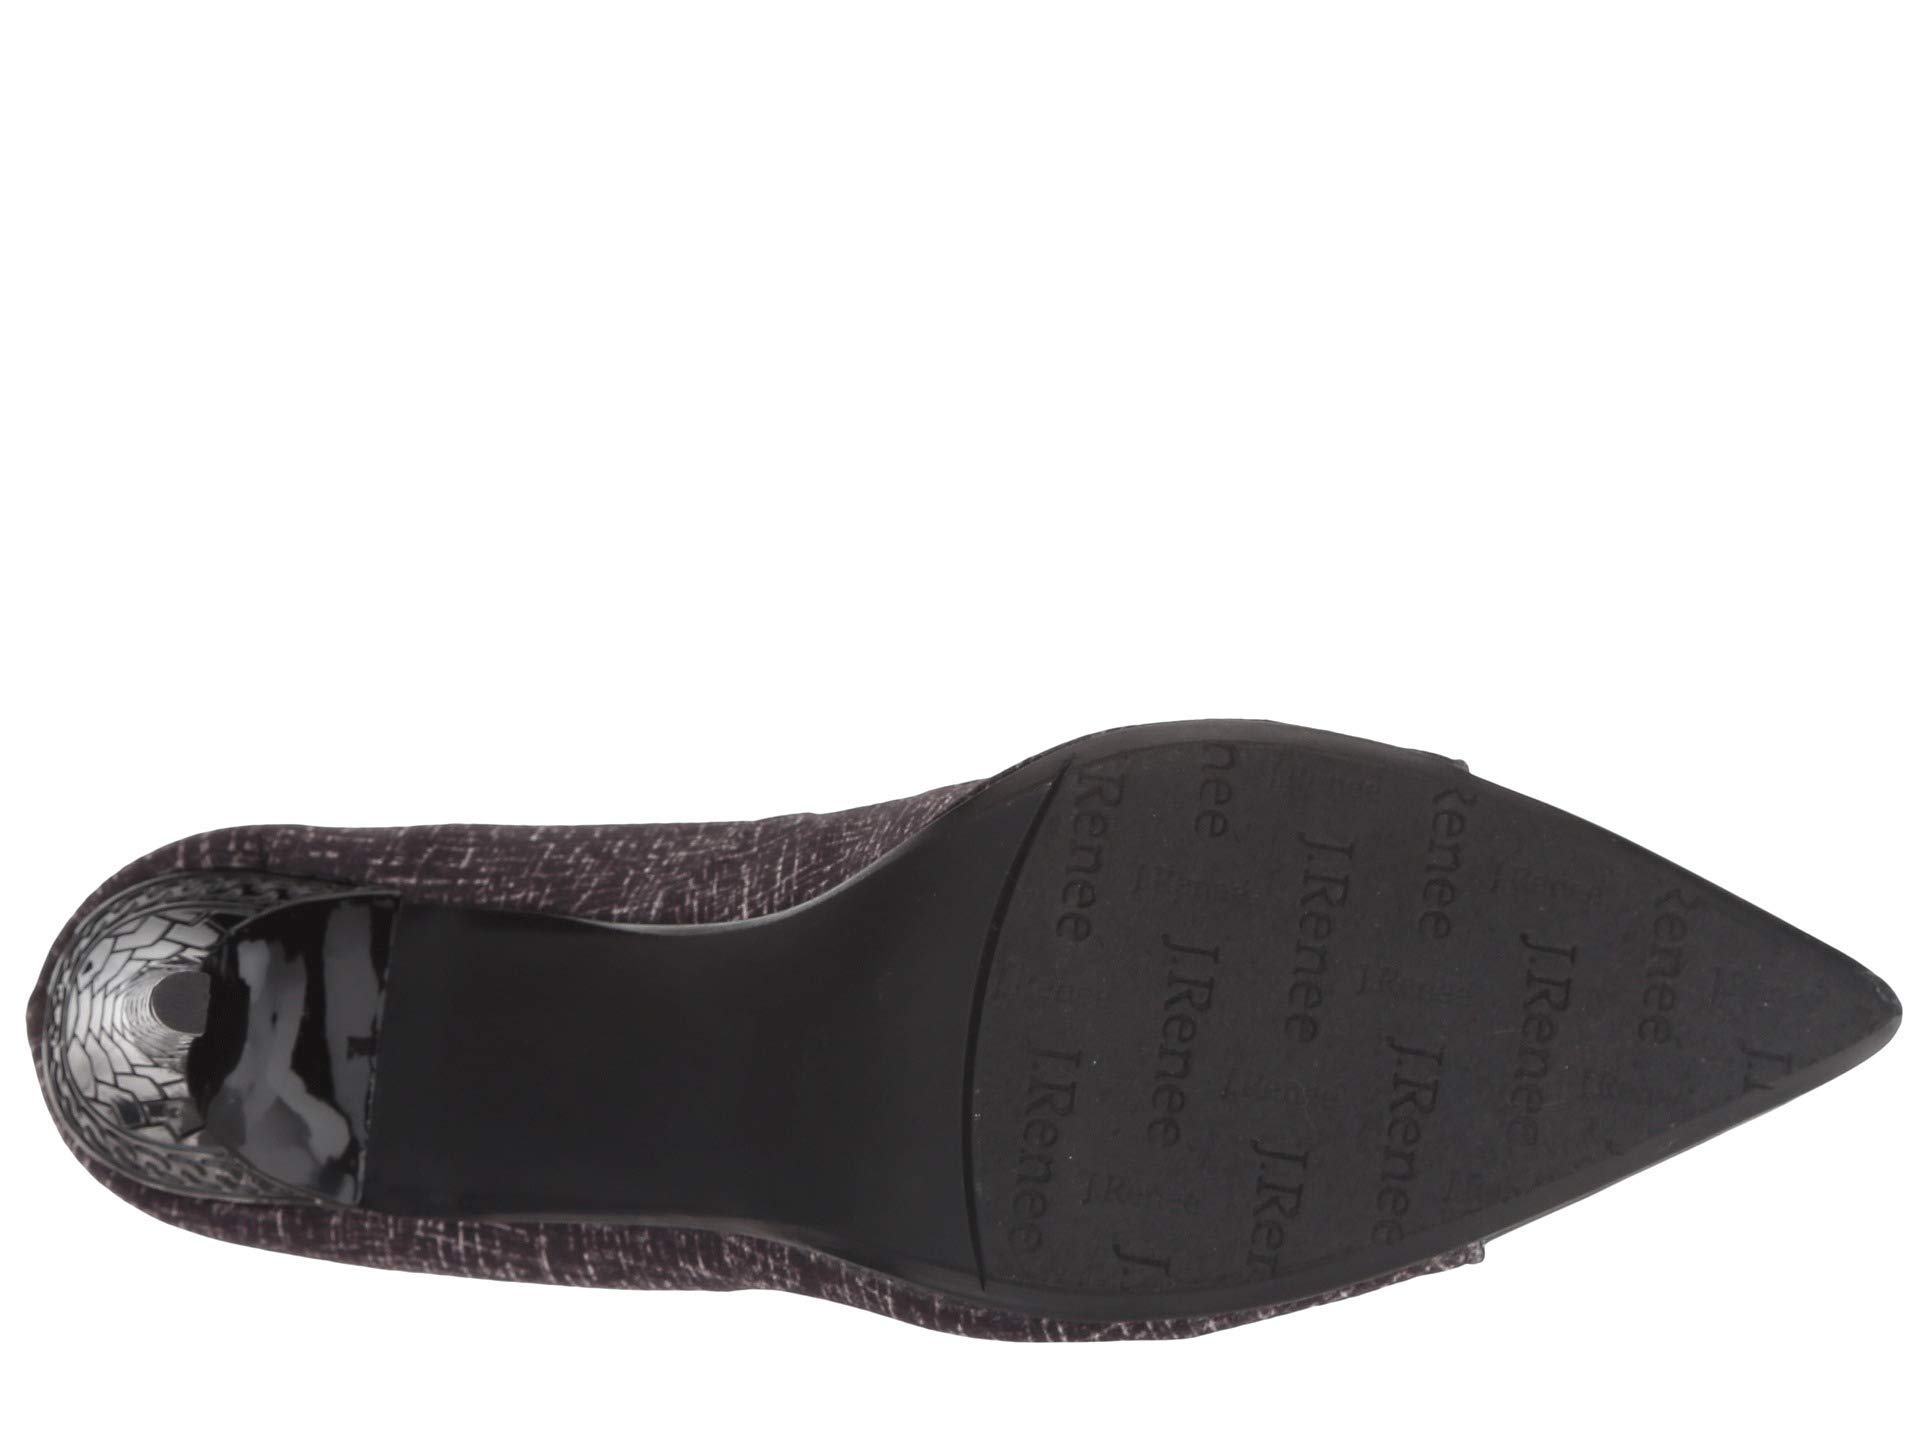circle: (139, 976, 228, 1042)
text: (1092, 765, 1604, 1240)
